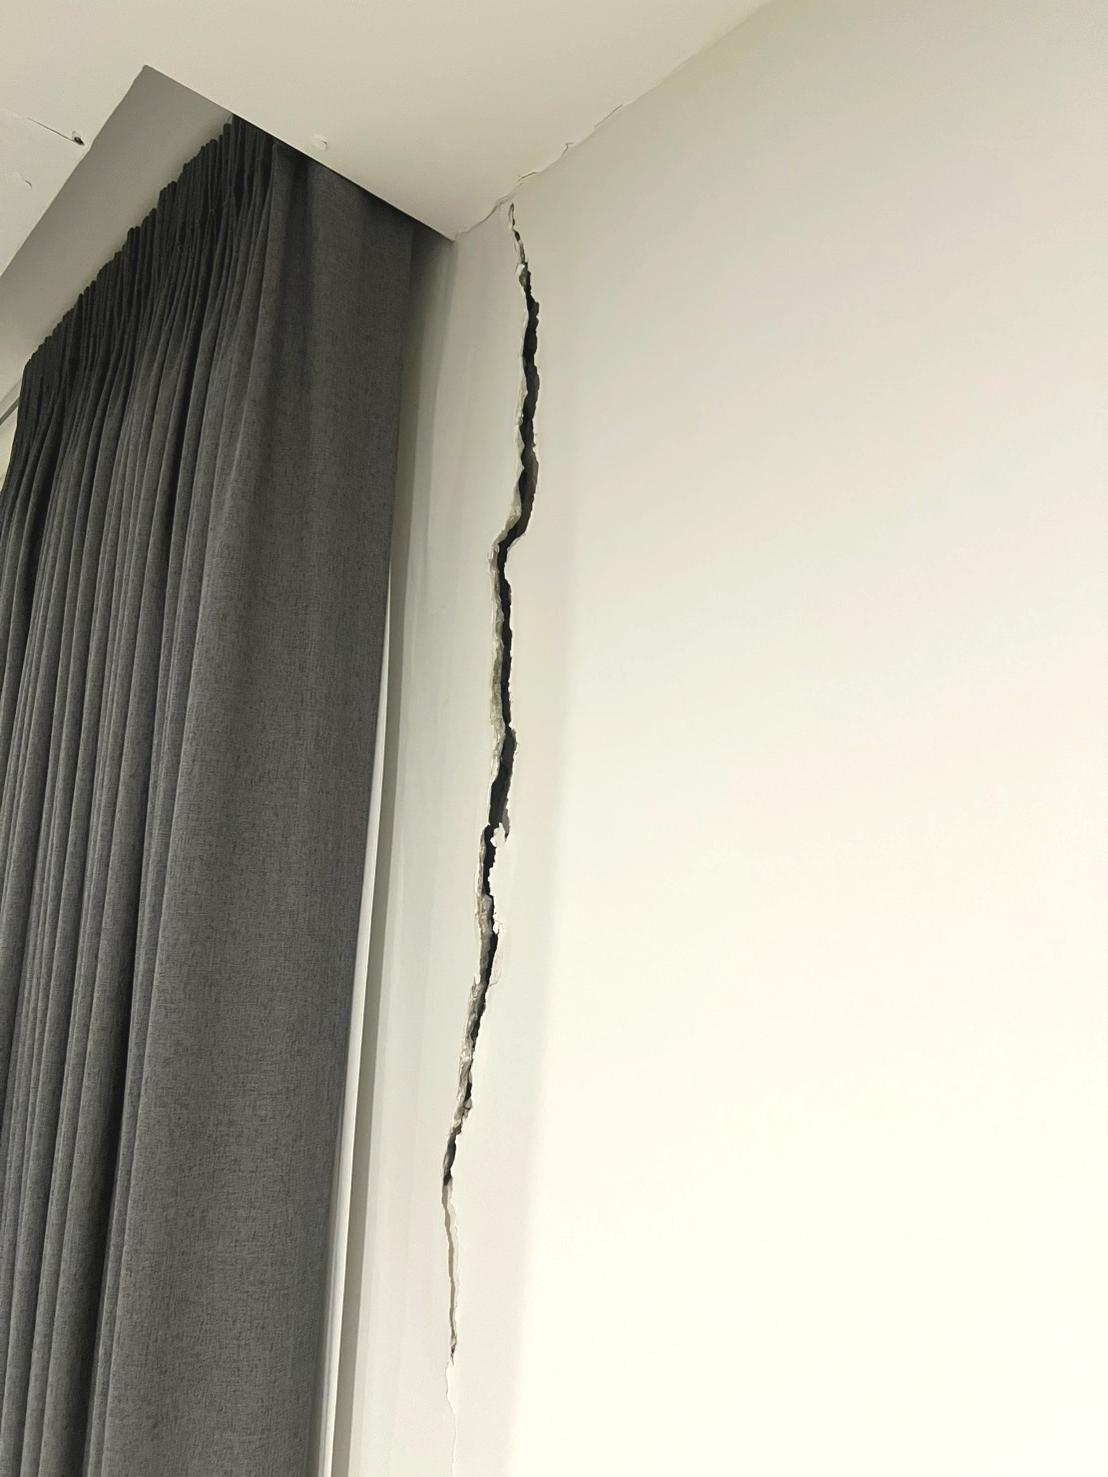High: (398, 192, 577, 1461)
